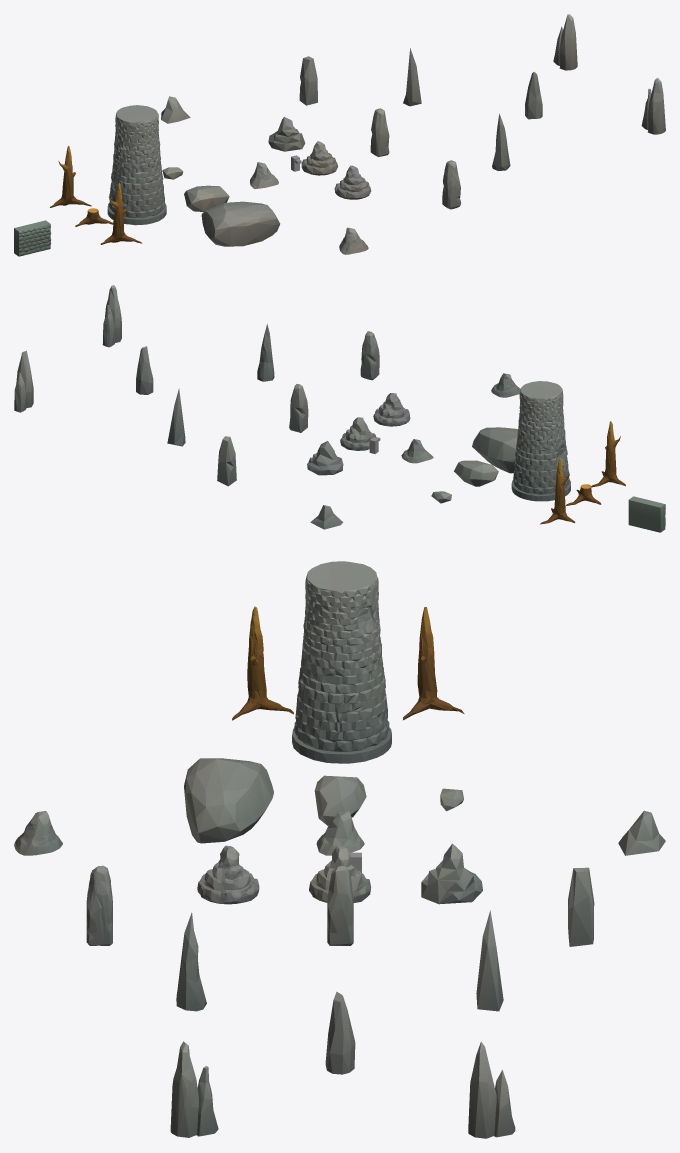
Rendered from Cave asset.fbx.
3 views of the same model, one above another, from view 1: azimuth 30°, elevation 25°; view 2: azimuth 150°, elevation 25°; view 3: azimuth 270°, elevation 25° (orthographic). The views are drawn at different scales.
Parts seen in each view (by area): view 1: Group33925, Group27560, Group50896, Group5693, Group54826, Group46240, Group11609, Group16005, Group6063, Group338, Group8447, Group8687 (+8 smaller); view 2: Group33925, Group27560, Group50896, Group54826, Group5693, Group46240, Group6063, Group16005, Group338, Group8447, Group11609, Group8687 (+8 smaller); view 3: Group33925, Group27560, Group5693, Group54826, Group6063, Group16005, Group8687, Group8447, Group338, Group46240, Group58233, Group17150 (+7 smaller).
Boxes of the visible parts, x1,y1,x2,y2 form: Group33925: (107, 105, 166, 225); Group27560: (201, 201, 280, 246); Group50896: (14, 220, 51, 256); Group5693: (641, 78, 665, 134); Group54826: (553, 14, 577, 70); Group46240: (184, 185, 229, 211); Group11609: (301, 141, 337, 175); Group16005: (268, 117, 305, 151); Group6063: (334, 165, 371, 199); Group338: (299, 56, 317, 105); Group8447: (442, 160, 460, 209); Group8687: (370, 108, 389, 156); Group33925: (511, 381, 570, 501); Group27560: (472, 427, 518, 473); Group50896: (628, 496, 665, 532); Group54826: (14, 350, 33, 412); Group5693: (102, 285, 121, 347); Group46240: (454, 460, 498, 486); Group6063: (373, 393, 410, 426); Group16005: (307, 441, 343, 475); Group338: (217, 436, 236, 486); Group8447: (360, 331, 379, 380); Group11609: (340, 417, 375, 450); Group8687: (289, 384, 308, 432); Group33925: (292, 561, 391, 763); Group27560: (184, 758, 273, 843); Group5693: (170, 1041, 218, 1137); Group54826: (468, 1041, 515, 1138); Group6063: (197, 845, 259, 904); Group16005: (421, 843, 482, 904); Group8687: (327, 866, 353, 945); Group8447: (86, 865, 112, 945); Group338: (568, 867, 594, 946); Group46240: (314, 775, 366, 825); Group58233: (232, 606, 293, 720); Group17150: (403, 607, 464, 720).
Size of the model in its own units: 4206 by 764 by 2340.
3 materials, 2 textured.
